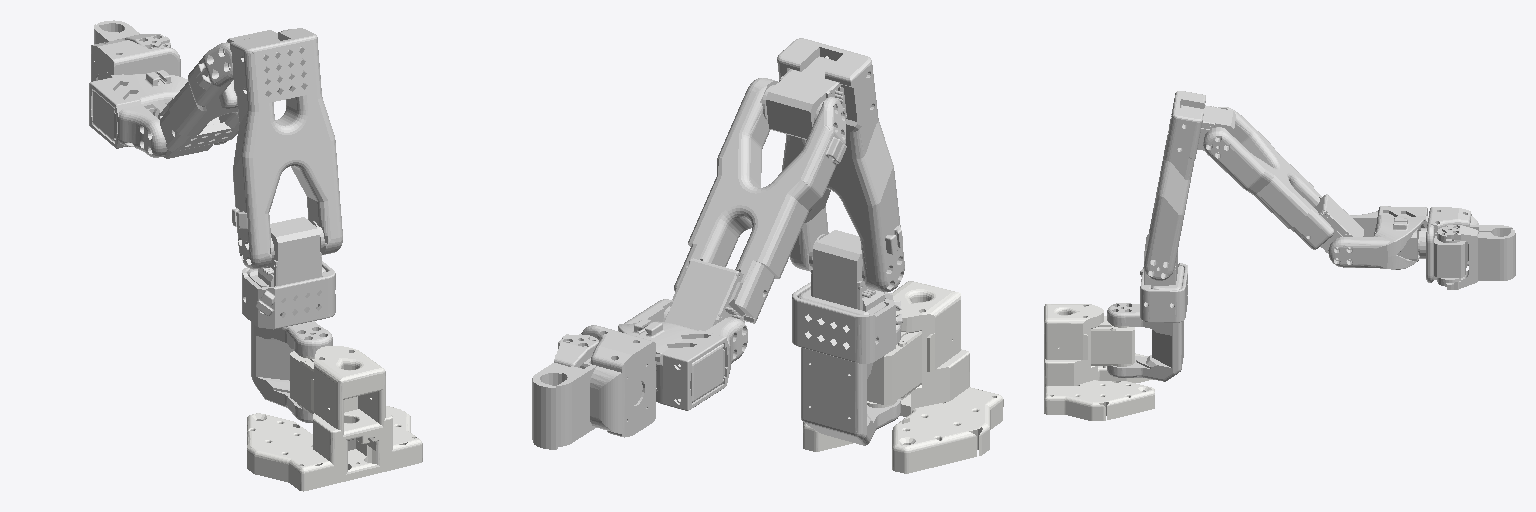
The robot description file, URDF, robot "Industry_gyu_arm_20260728_1st_position":
<?xml version="1.0" encoding="utf-8"?>
<!-- This URDF was automatically created by SolidWorks to URDF Exporter! Originally created by Stephen Brawner (brawner@gmail.com) 
     Commit Version: 1.6.0-4-g7f85cfe  Build Version: 1.6.7995.38578
     For more information, please see http://wiki.ros.org/sw_urdf_exporter -->
<robot
  name="Industry_gyu_arm_20260728_1st_position">
  <link
    name="base_link">
    <inertial>
      <origin
        xyz="0.240018522196288 -0.260381295292402 0.0457476778875501"
        rpy="0 0 0" />
      <mass
        value="0.152718655712483" />
      <inertia
        ixx="0.000114073734453911"
        ixy="3.06723030800343E-08"
        ixz="-2.30712090300435E-09"
        iyy="0.000133076179118511"
        iyz="1.99775586214327E-05"
        izz="0.00014220634256509" />
    </inertial>
    <visual>
      <origin
        xyz="0 0 0"
        rpy="0 0 0" />
      <geometry>
        <mesh
          filename="package://Industry_gyu_arm_20260728_1st_position/meshes/base_link.STL" />
      </geometry>
      <material
        name="">
        <color
          rgba="0.964705882352941 0.964705882352941 0.952941176470588 1" />
      </material>
    </visual>
    <collision>
      <origin
        xyz="0 0 0"
        rpy="0 0 0" />
      <geometry>
        <mesh
          filename="package://Industry_gyu_arm_20260728_1st_position/meshes/base_link.STL" />
      </geometry>
    </collision>
  </link>
  <link
    name="l1">
    <inertial>
      <origin
        xyz="0.00200493547343794 0.0310781733397142 0.0025483454343232"
        rpy="0 0 0" />
      <mass
        value="0.118342769302105" />
      <inertia
        ixx="5.99978036109078E-05"
        ixy="-7.66166353546075E-10"
        ixz="-7.23693382334423E-07"
        iyy="5.86067248267002E-05"
        iyz="-4.49198737125391E-06"
        izz="3.27322843497395E-05" />
    </inertial>
    <visual>
      <origin
        xyz="0 0 0"
        rpy="0 0 0" />
      <geometry>
        <mesh
          filename="package://Industry_gyu_arm_20260728_1st_position/meshes/l1.STL" />
      </geometry>
      <material
        name="">
        <color
          rgba="0.894117647058823 0.894117647058823 0.894117647058823 1" />
      </material>
    </visual>
    <collision>
      <origin
        xyz="0 0 0"
        rpy="0 0 0" />
      <geometry>
        <mesh
          filename="package://Industry_gyu_arm_20260728_1st_position/meshes/l1.STL" />
      </geometry>
    </collision>
  </link>
  <joint
    name="j1"
    type="revolute">
    <origin
      xyz="0.240050000000002 -0.2348 0.0924"
      rpy="0 0 0" />
    <parent
      link="base_link" />
    <child
      link="l1" />
    <axis
      xyz="0 0 1" />
    <limit
      lower="0"
      upper="0"
      effort="0"
      velocity="0" />
  </joint>
  <link
    name="l2">
    <inertial>
      <origin
        xyz="-0.0173045257242395 0.0166155296252751 0.0712269091909727"
        rpy="0 0 0" />
      <mass
        value="0.153632397727893" />
      <inertia
        ixx="0.000152006344105552"
        ixy="1.78694622355989E-06"
        ixz="-2.5681691689046E-06"
        iyy="0.000186370157006118"
        iyz="-1.93590924205691E-05"
        izz="6.35774805521533E-05" />
    </inertial>
    <visual>
      <origin
        xyz="0 0 0"
        rpy="0 0 0" />
      <geometry>
        <mesh
          filename="package://Industry_gyu_arm_20260728_1st_position/meshes/l2.STL" />
      </geometry>
      <material
        name="">
        <color
          rgba="0.894117647058823 0.894117647058823 0.894117647058823 1" />
      </material>
    </visual>
    <collision>
      <origin
        xyz="0 0 0"
        rpy="0 0 0" />
      <geometry>
        <mesh
          filename="package://Industry_gyu_arm_20260728_1st_position/meshes/l2.STL" />
      </geometry>
    </collision>
  </link>
  <joint
    name="j2"
    type="revolute">
    <origin
      xyz="0.0200779224125422 0.0294019902658976 0.0491999999999996"
      rpy="0 0 0" />
    <parent
      link="l1" />
    <child
      link="l2" />
    <axis
      xyz="0.998042829003419 -0.0625340825058795 0" />
    <limit
      lower="0"
      upper="0"
      effort="0"
      velocity="0" />
  </joint>
  <link
    name="l3">
    <inertial>
      <origin
        xyz="-0.0266360597632612 0.0550638911742019 -0.0523054673667779"
        rpy="0 0 0" />
      <mass
        value="0.129181187085919" />
      <inertia
        ixx="9.81225871730414E-05"
        ixy="-7.56452943303859E-08"
        ixz="2.04633699826775E-06"
        iyy="8.74763179197436E-05"
        iyz="4.29453460638968E-05"
        izz="8.30031235254923E-05" />
    </inertial>
    <visual>
      <origin
        xyz="0 0 0"
        rpy="0 0 0" />
      <geometry>
        <mesh
          filename="package://Industry_gyu_arm_20260728_1st_position/meshes/l3.STL" />
      </geometry>
      <material
        name="">
        <color
          rgba="0.894117647058823 0.894117647058823 0.894117647058823 1" />
      </material>
    </visual>
    <collision>
      <origin
        xyz="0 0 0"
        rpy="0 0 0" />
      <geometry>
        <mesh
          filename="package://Industry_gyu_arm_20260728_1st_position/meshes/l3.STL" />
      </geometry>
    </collision>
  </link>
  <joint
    name="j3"
    type="revolute">
    <origin
      xyz="0.0147890610632275 0.04573692020794 0.106240424522687"
      rpy="0 0 0" />
    <parent
      link="l2" />
    <child
      link="l3" />
    <axis
      xyz="0.998042829003419 -0.0625340825058775 0" />
    <limit
      lower="0"
      upper="0"
      effort="0"
      velocity="0" />
  </joint>
  <link
    name="l4">
    <inertial>
      <origin
        xyz="-0.0324353442731654 0.0372108100243216 0.00018328355336425"
        rpy="0 0 0" />
      <mass
        value="0.0685302867354591" />
      <inertia
        ixx="1.95556628773914E-05"
        ixy="2.28612835834444E-06"
        ixz="1.48771208436985E-08"
        iyy="2.43344506786251E-05"
        iyz="-1.18487177712231E-07"
        izz="3.44202541216646E-05" />
    </inertial>
    <visual>
      <origin
        xyz="0 0 0"
        rpy="0 0 0" />
      <geometry>
        <mesh
          filename="package://Industry_gyu_arm_20260728_1st_position/meshes/l4.STL" />
      </geometry>
      <material
        name="">
        <color
          rgba="0.894117647058823 0.894117647058823 0.894117647058823 1" />
      </material>
    </visual>
    <collision>
      <origin
        xyz="0 0 0"
        rpy="0 0 0" />
      <geometry>
        <mesh
          filename="package://Industry_gyu_arm_20260728_1st_position/meshes/l4.STL" />
      </geometry>
    </collision>
  </link>
  <joint
    name="j4"
    type="revolute">
    <origin
      xyz="0.00326020536102012 0.098407529702962 -0.0924052983201313"
      rpy="0 0 0" />
    <parent
      link="l3" />
    <child
      link="l4" />
    <axis
      xyz="0.998042829003419 -0.0625340825058787 0" />
    <limit
      lower="0"
      upper="0"
      effort="0"
      velocity="0" />
  </joint>
  <link
    name="l5">
    <inertial>
      <origin
        xyz="0.00580130374453741 0.0250543817126754 -0.000211156023619652"
        rpy="0 0 0" />
      <mass
        value="0.0691681211392853" />
      <inertia
        ixx="2.3807666382648E-05"
        ixy="7.27843591924286E-07"
        ixz="1.81072522539367E-08"
        iyy="1.99045608282819E-05"
        iyz="2.46146099379573E-07"
        izz="2.38171880699915E-05" />
    </inertial>
    <visual>
      <origin
        xyz="0 0 0"
        rpy="0 0 0" />
      <geometry>
        <mesh
          filename="package://Industry_gyu_arm_20260728_1st_position/meshes/l5.STL" />
      </geometry>
      <material
        name="">
        <color
          rgba="0.894117647058823 0.894117647058823 0.894117647058823 1" />
      </material>
    </visual>
    <collision>
      <origin
        xyz="0 0 0"
        rpy="0 0 0" />
      <geometry>
        <mesh
          filename="package://Industry_gyu_arm_20260728_1st_position/meshes/l5.STL" />
      </geometry>
    </collision>
  </link>
  <joint
    name="j5"
    type="revolute">
    <origin
      xyz="-0.0233511963898951 0.0606790048300108 0"
      rpy="0 0 0" />
    <parent
      link="l4" />
    <child
      link="l5" />
    <axis
      xyz="0.0625340825058827 0.998042829003419 0" />
    <limit
      lower="0"
      upper="0"
      effort="0"
      velocity="0" />
  </joint>
  <link
    name="l6">
    <inertial>
      <origin
        xyz="-0.0013637931762327 0.0241040392460376 0.0205873914696666"
        rpy="0 0 0" />
      <mass
        value="0.0166777223069399" />
      <inertia
        ixx="6.88172676674817E-06"
        ixy="1.17571216841709E-07"
        ixz="2.62570766946773E-09"
        iyy="3.51532489459236E-06"
        iyz="-1.30765409669702E-07"
        izz="3.9909525497105E-06" />
    </inertial>
    <visual>
      <origin
        xyz="0 0 0"
        rpy="0 0 0" />
      <geometry>
        <mesh
          filename="package://Industry_gyu_arm_20260728_1st_position/meshes/l6.STL" />
      </geometry>
      <material
        name="">
        <color
          rgba="0.894117647058823 0.894117647058823 0.894117647058823 1" />
      </material>
    </visual>
    <collision>
      <origin
        xyz="0 0 0"
        rpy="0 0 0" />
      <geometry>
        <mesh
          filename="package://Industry_gyu_arm_20260728_1st_position/meshes/l6.STL" />
      </geometry>
    </collision>
  </link>
  <joint
    name="j6"
    type="revolute">
    <origin
      xyz="0.0216862967590123 0.0230890565610647 -0.0230999999995563"
      rpy="0 0 0" />
    <parent
      link="l5" />
    <child
      link="l6" />
    <axis
      xyz="0 0 1" />
    <limit
      lower="0"
      upper="0"
      effort="0"
      velocity="0" />
  </joint>
</robot>

--- What the picture shows (computed from the rendered views, not written in the file) ---
The picture shows the robot from 3 angles, left to right: view 1: azimuth 30°, elevation 25°; view 2: azimuth 150°, elevation 25°; view 3: azimuth 270°, elevation 25°; orthographic projection.
Robot: Industry_gyu_arm_20260728_1st_position — 7 links, 6 joints (6 revolute); root link base_link; default pose: all joints at 0.
Visible links, largest first — view 1: l2, base_link, l1, l3, l4, l5, l6; view 2: l3, l2, base_link, l1, l5, l4, l6; view 3: base_link, l3, l2, l1, l4, l5, l6.
Boxes of the visible links, bbox=[...] form: l2: bbox=[227, 28, 342, 268]; base_link: bbox=[247, 346, 422, 491]; l1: bbox=[242, 217, 335, 422]; l3: bbox=[158, 29, 291, 158]; l4: bbox=[89, 70, 226, 157]; l5: bbox=[91, 24, 180, 81]; l6: bbox=[97, 20, 170, 48]; l3: bbox=[663, 78, 846, 330]; l2: bbox=[762, 38, 904, 291]; base_link: bbox=[803, 281, 1003, 473]; l1: bbox=[792, 230, 902, 445]; l5: bbox=[555, 325, 656, 446]; l4: bbox=[618, 299, 747, 410]; l6: bbox=[532, 334, 598, 449]; base_link: bbox=[1044, 304, 1154, 420]; l3: bbox=[1203, 107, 1363, 253]; l2: bbox=[1144, 91, 1235, 280]; l1: bbox=[1107, 233, 1187, 381]; l4: bbox=[1329, 206, 1428, 269]; l5: bbox=[1420, 207, 1512, 282]; l6: bbox=[1437, 225, 1515, 289].
Bounding box of the posed robot: 0.1109 × 0.3699 × 0.2516 m (x, y, z).
7 mesh visuals loaded from 7 distinct referenced files (7 binary STL).
